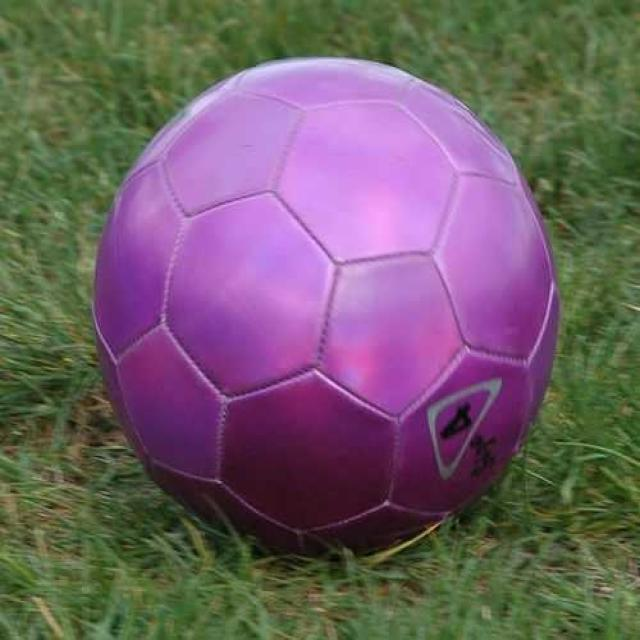ball: (91, 54, 564, 559)
